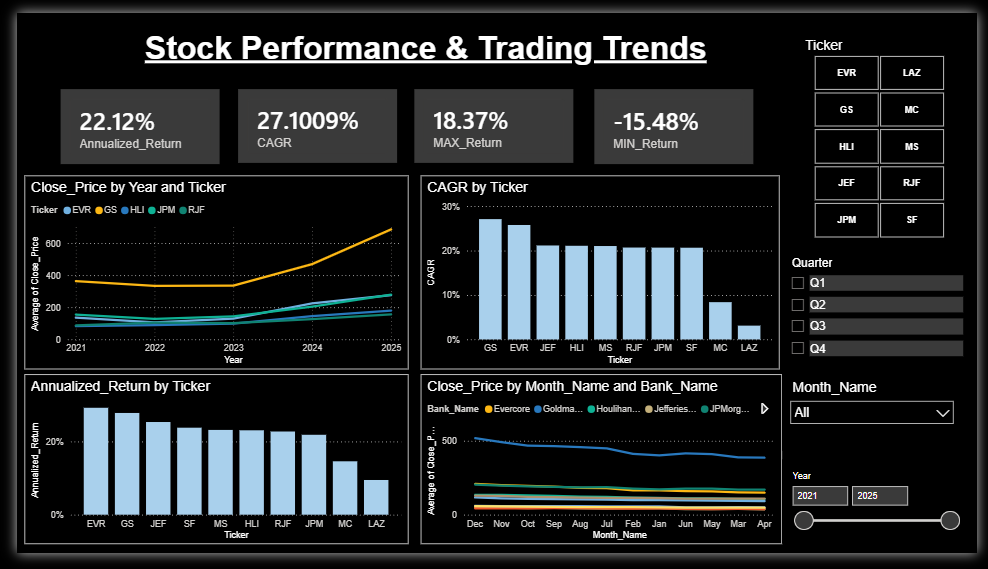

This screenshot's page, from the dashboard's own definition file:
{"tool":"powerbi","page":{"name":"Stock Performance & Trading Trends","canvas":[1280,720],"ordinal":1},"visuals":[{"type":"cardVisual","fields":{"Data":["Measure.Annualized_Return"]},"box":[54,96,222,110],"z":0,"group":"g1"},{"type":"lineChart","title":"Close_Price by Year and Ticker","fields":{"Category":["investment_bank_stock_prices.Date.Variation.Date Hierarchy.Year"],"Y":["Avg(investment_bank_stock_prices.Close_Price)"],"Series":["investment_bank_master_lookup.Ticker"]},"box":[10,216,512,258],"z":0},{"type":"cardVisual","fields":{"Data":["Measure.CAGR"]},"box":[290,96,222,108],"z":1000,"group":"g1"},{"type":"clusteredColumnChart","fields":{"Category":["investment_bank_stock_prices.Ticker"],"Y":["Measure.Annualized_Return"]},"box":[10,481.7,511.7,226.7],"z":1000},{"type":"cardVisual","fields":{"Data":["Measure.MAX_Return"]},"box":[526,96,222,108],"z":2000,"group":"g1"},{"type":"lineChart","title":"Close_Price by Month_Name and Bank_Name","fields":{"Category":["investment_bank_stock_prices.Month_Name"],"Y":["Avg(investment_bank_stock_prices.Close_Price)"],"Series":["investment_bank_stock_prices.Bank_Name"]},"box":[538.3,481.7,481.7,226.7],"z":2000},{"type":"cardVisual","fields":{"Data":["Measure.MIN_Return"]},"box":[766,96,222,110],"z":3000,"group":"g1"},{"type":"clusteredColumnChart","fields":{"Y":["Measure.CAGR"],"Category":["investment_bank_stock_prices.Ticker"]},"box":[538,216,478,258],"z":3000},{"type":"slicer","fields":{"Values":["investment_bank_master_lookup.Ticker"]},"box":[1036,16,224,304],"z":4000},{"type":"slicer","fields":{"Values":["investment_bank_stock_prices.Month_Name"]},"box":[1020,473.3,240,110],"z":5000},{"type":"slicer","fields":{"Values":["investment_bank_stock_prices.Quarter"]},"box":[1035.7,320,231.4,152.9],"z":6000},{"type":"slicer","fields":{"Values":["investment_bank_stock_prices.Year"]},"box":[1020,595,246.7,111.7],"z":7000},{"type":"group","id":"g1","title":"Group 1","box":[54,96,934,110],"z":8000},{"type":"textbox","box":[70,16.2,950,66.2],"z":9000}]}

Visuals, with their boxes in screenshot pixels (x1, y1, x2, y2), scaled from the page's 1280x720 canvas onto the 988x569 screenshot:
cardVisual - Measure.Annualized_Return: 42, 76, 213, 163
"Close_Price by Year and Ticker" lineChart: 8, 171, 403, 375
cardVisual - Measure.CAGR: 224, 76, 395, 161
clusteredColumnChart - investment_bank_stock_prices.Ticker x Measure.Annualized_Return: 8, 381, 403, 560
cardVisual - Measure.MAX_Return: 406, 76, 577, 161
"Close_Price by Month_Name and Bank_Name" lineChart: 416, 381, 787, 560
cardVisual - Measure.MIN_Return: 591, 76, 763, 163
clusteredColumnChart - Measure.CAGR x investment_bank_stock_prices.Ticker: 415, 171, 784, 375
slicer - investment_bank_master_lookup.Ticker: 800, 13, 973, 253
slicer - investment_bank_stock_prices.Month_Name: 787, 374, 973, 461
slicer - investment_bank_stock_prices.Quarter: 799, 253, 978, 374
slicer - investment_bank_stock_prices.Year: 787, 470, 978, 558
"Group 1" group: 42, 76, 763, 163
textbox: 54, 13, 787, 65
